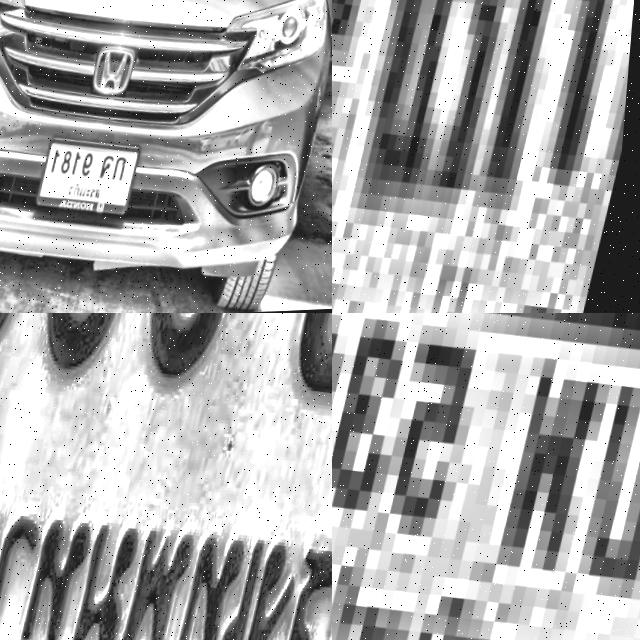license-plate: (0, 313, 332, 640), (332, 313, 640, 640), (332, 0, 640, 313), (41, 134, 151, 224)
